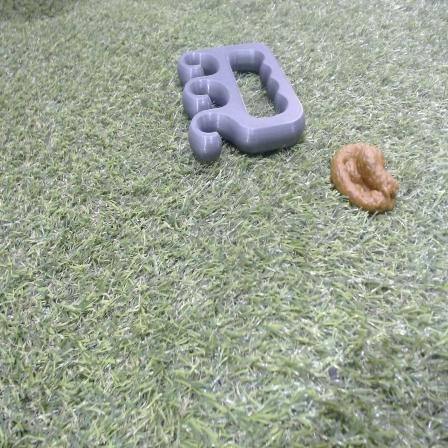dog-poop: (334, 142, 401, 212)
